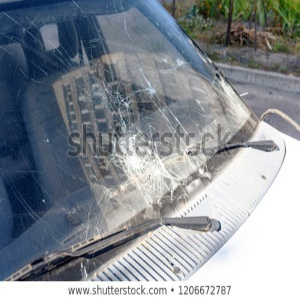front_windshield_glass: (38, 57, 217, 126)
